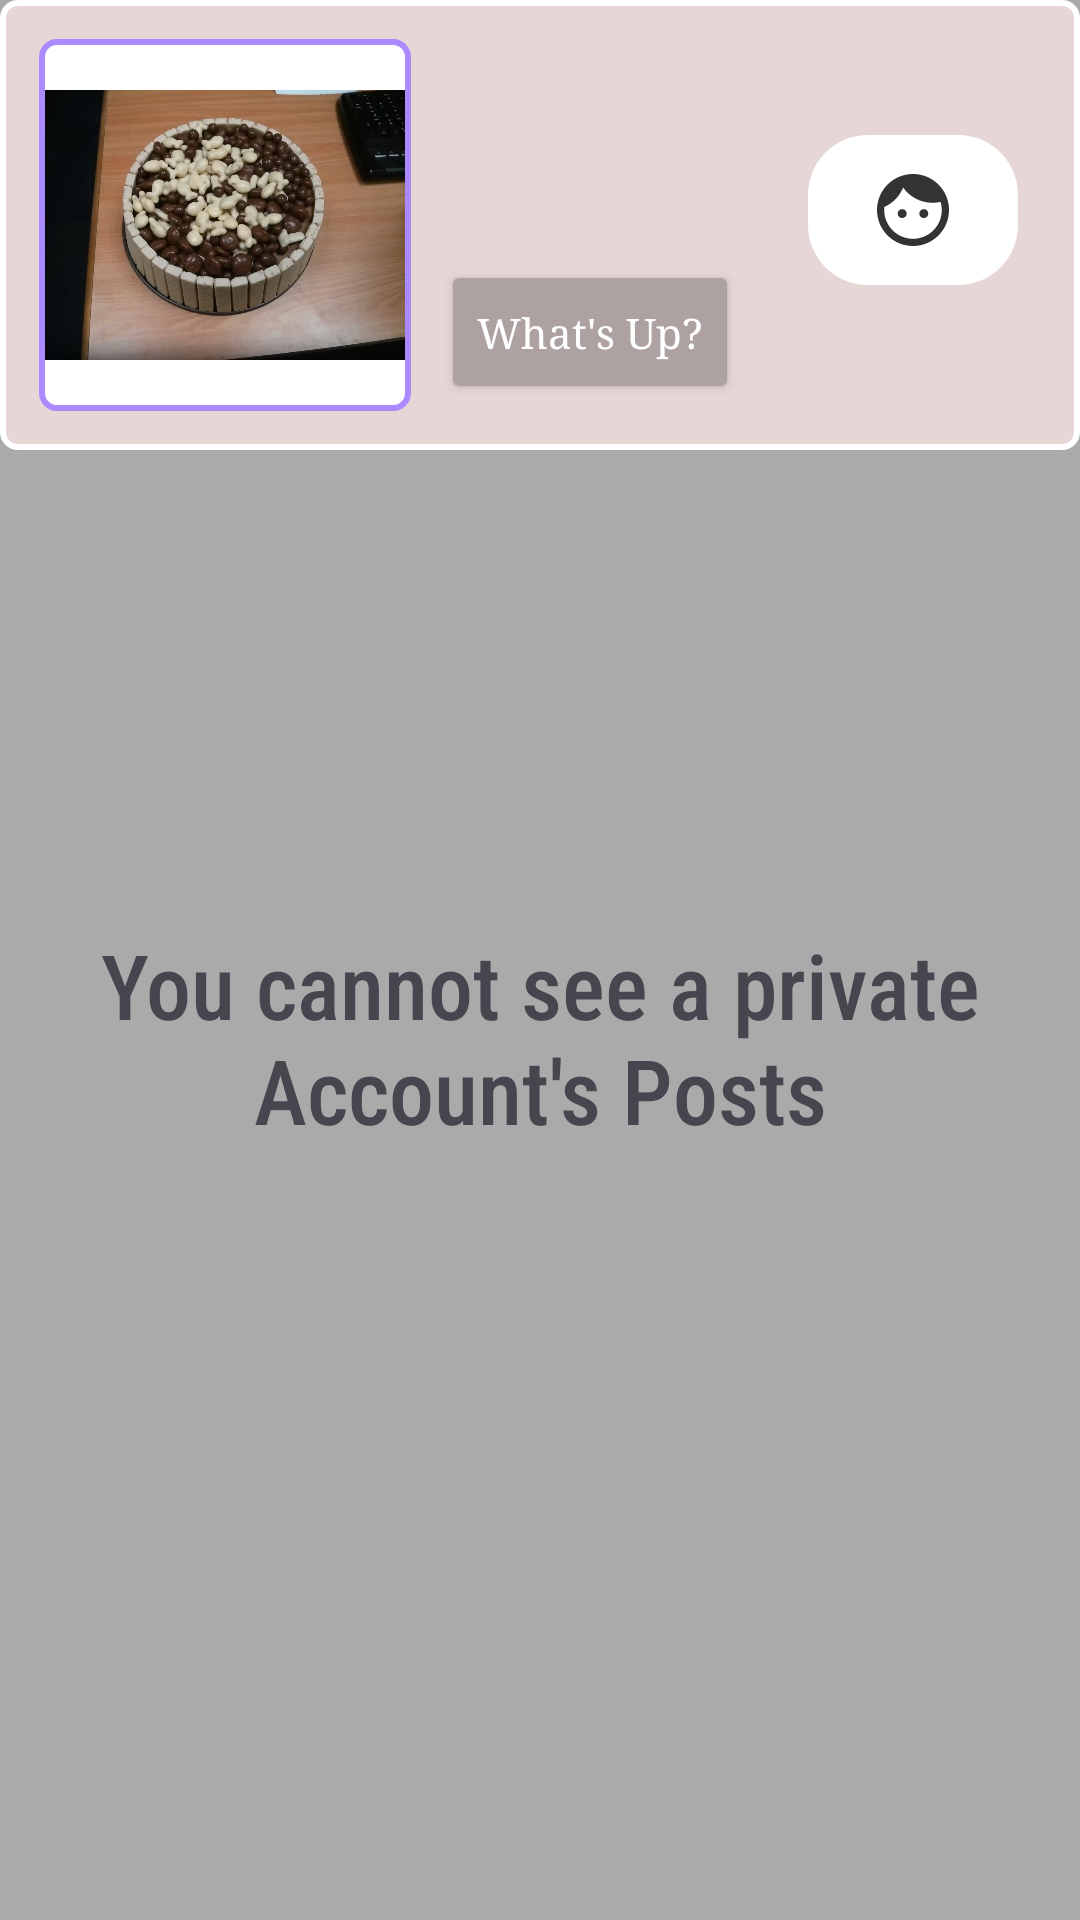

Icon bounding boxes for this 1080×1920 phone screenshot, format (x1, y1, x2, y2):
friends sign: (808, 135, 1018, 285)
